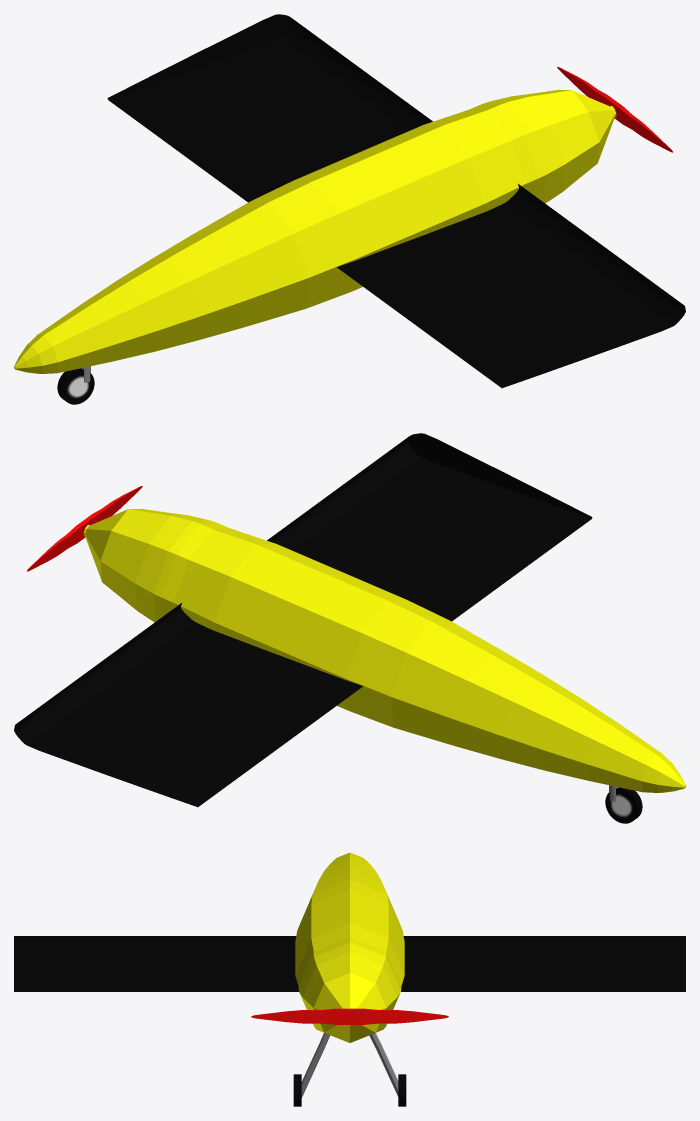
Rendered from faza8_plane_presentable.gltf.
The picture shows the model from 3 angles, top to bottom: view 1: azimuth 30°, elevation 25°; view 2: azimuth 150°, elevation 25°; view 3: azimuth 270°, elevation 25°; orthographic projection. The views are drawn at different scales.
Parts seen in each view (by area): view 1: Body, Left Wing, Right Wing, Propeler1, Zadnje Kolo; view 2: Body, Right Wing, Left Wing, Propeler1, Zadnje Kolo; view 3: Left Wing, Right Wing, Body, Propeler1, Leva Noga, Desna Noga.
Part boxes in pixels (x1=…): Body: x1=14, y1=89, x2=616, y2=373; Left Wing: x1=337, y1=184, x2=685, y2=388; Right Wing: x1=107, y1=14, x2=432, y2=202; Propeler1: x1=557, y1=67, x2=672, y2=152; Zadnje Kolo: x1=57, y1=368, x2=94, y2=404; Body: x1=83, y1=508, x2=685, y2=792; Right Wing: x1=14, y1=603, x2=362, y2=807; Left Wing: x1=267, y1=433, x2=592, y2=621; Propeler1: x1=27, y1=486, x2=142, y2=571; Zadnje Kolo: x1=605, y1=787, x2=642, y2=823; Left Wing: x1=14, y1=936, x2=298, y2=991; Right Wing: x1=401, y1=936, x2=685, y2=991; Body: x1=295, y1=852, x2=404, y2=1042; Propeler1: x1=251, y1=1008, x2=448, y2=1024; Leva Noga: x1=301, y1=1033, x2=330, y2=1097; Desna Noga: x1=369, y1=1033, x2=398, y2=1096.
Size of what is drawn, in the model's own units: 13.64 by 4.21 by 15.41.
Materials: 5 (5 with a texture image).
